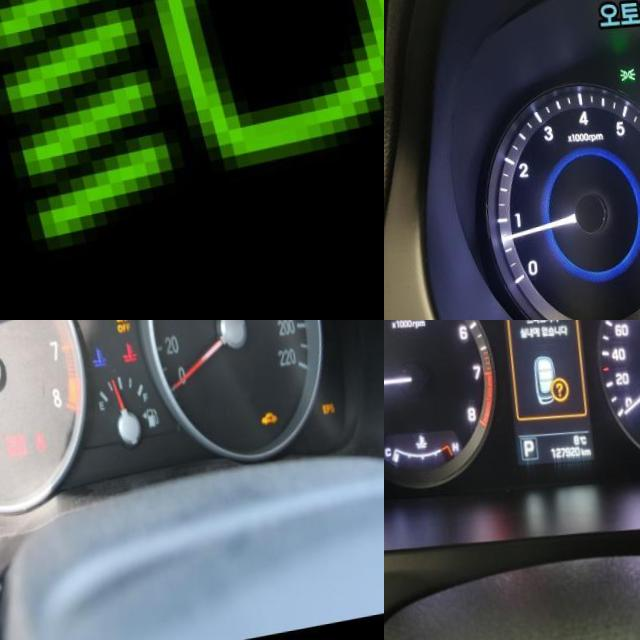Engine cooling system: (111, 346, 128, 367)
Low beam: (0, 0, 384, 248)
SideLamp: (612, 71, 630, 88)
